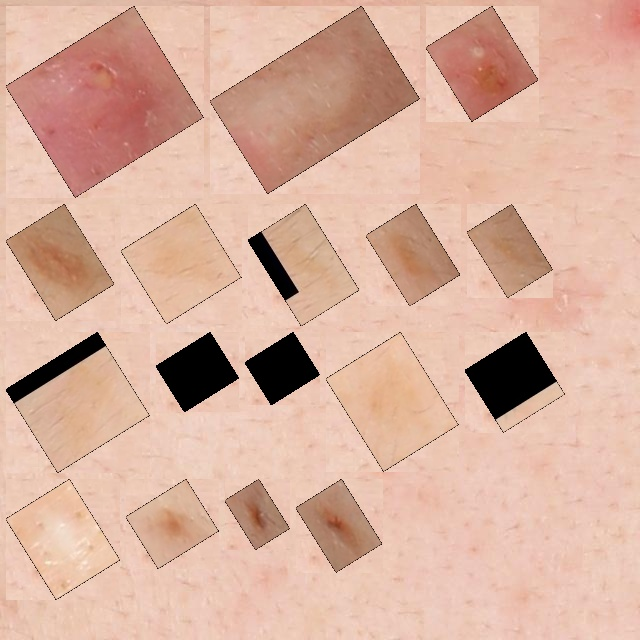hypertrophic_scar: (221, 17, 409, 182), (17, 490, 109, 588)
melasma: (17, 343, 138, 461), (337, 343, 447, 460), (132, 215, 230, 313), (259, 215, 348, 315), (17, 215, 103, 309), (476, 343, 554, 421), (377, 215, 449, 295), (478, 215, 542, 286), (167, 343, 228, 401), (256, 343, 309, 394)
nevus: (137, 490, 208, 557), (307, 490, 371, 561), (236, 490, 279, 538)
pustule: (17, 17, 192, 186), (437, 17, 527, 110)
